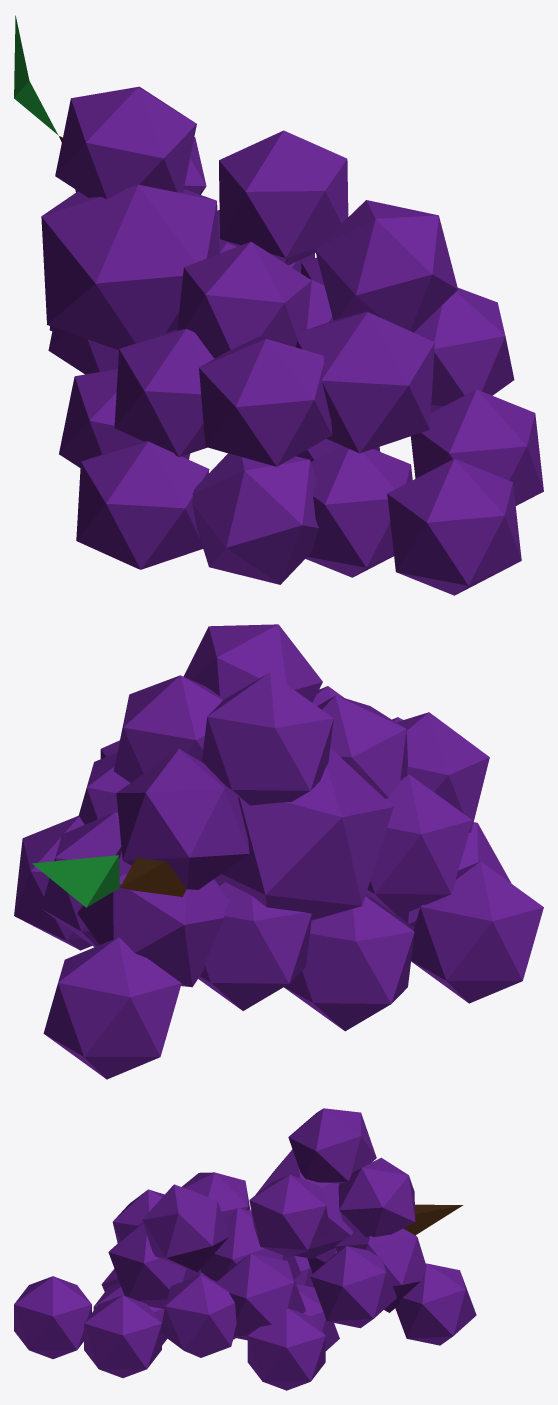
File: gc_grapes.glb
The picture shows the model from 3 angles, top to bottom: view 1: azimuth 30°, elevation 25°; view 2: azimuth 150°, elevation 25°; view 3: azimuth 270°, elevation 25°; orthographic projection. The views are drawn at different scales.
Visible parts, largest first — view 1: Icosphere; view 2: Icosphere; view 3: Icosphere.
Boxes of the visible parts, bbox=[...] form: Icosphere: bbox=[14, 15, 543, 595]; Icosphere: bbox=[14, 624, 543, 1079]; Icosphere: bbox=[14, 1108, 476, 1390].
Size of the model in its own units: 0.4744 by 0.4021 by 0.8175.
